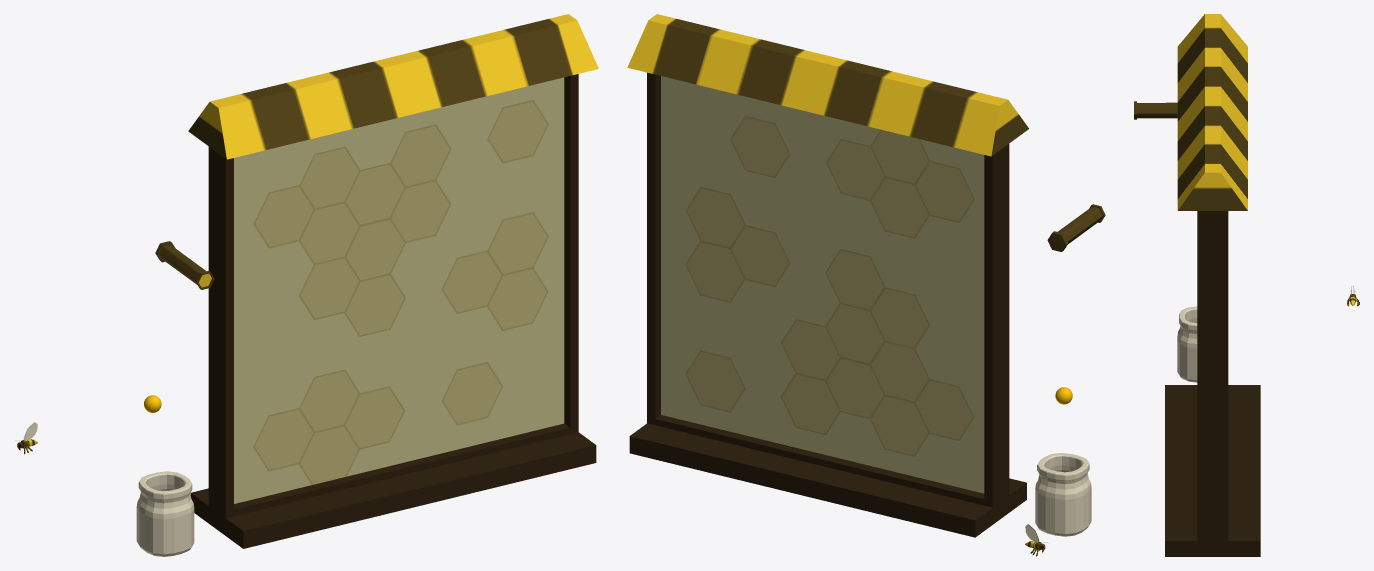
Rendered from PachinkoPeices.fbx.
The picture shows the model from 3 angles, left to right: view 1: azimuth 30°, elevation 25°; view 2: azimuth 150°, elevation 25°; view 3: azimuth 270°, elevation 25°; orthographic projection. The views are drawn at different scales.
Visible parts, largest first — view 1: Backboard, Jar, Peg; view 2: Backboard, Jar, Peg; view 3: Backboard, Jar, Peg.
Boxes of the visible parts, left/top/right/bottom form: Backboard: left=188, top=14, right=598, bottom=548; Jar: left=136, top=471, right=194, bottom=556; Peg: left=155, top=241, right=214, bottom=289; Backboard: left=627, top=14, right=1028, bottom=537; Jar: left=1035, top=453, right=1091, bottom=536; Peg: left=1047, top=204, right=1105, bottom=251; Backboard: left=1165, top=14, right=1260, bottom=556; Jar: left=1177, top=306, right=1197, bottom=382; Peg: left=1134, top=101, right=1177, bottom=119.
Bounding box in the file's own units: 27.56 × 23.04 × 12.23.
1 material, 1 textured.
